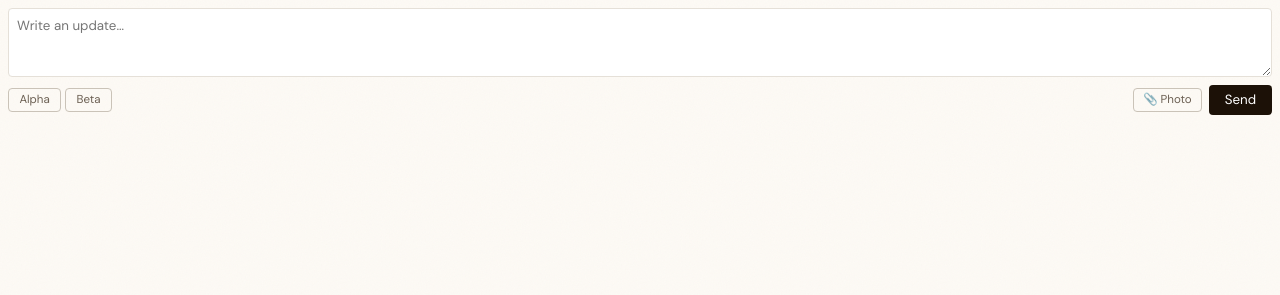
ComposeBox — per-circle body variants › renders one variant textarea per circle with ALT enabled
This screenshot has width=1280, height=295.
# Select both circles
Click the button "Alpha". click: (35, 100)
box: x1=9 y1=89 x2=60 y2=111
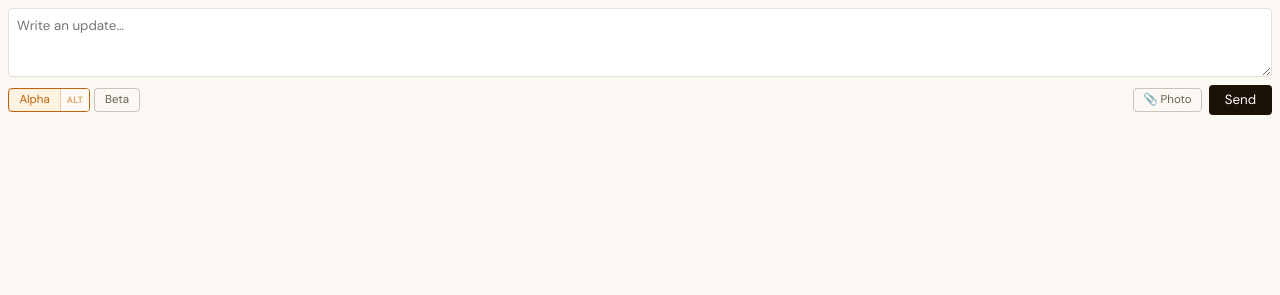
Click the button "Beta". click: (117, 100)
box: x1=95 y1=89 x2=140 y2=111
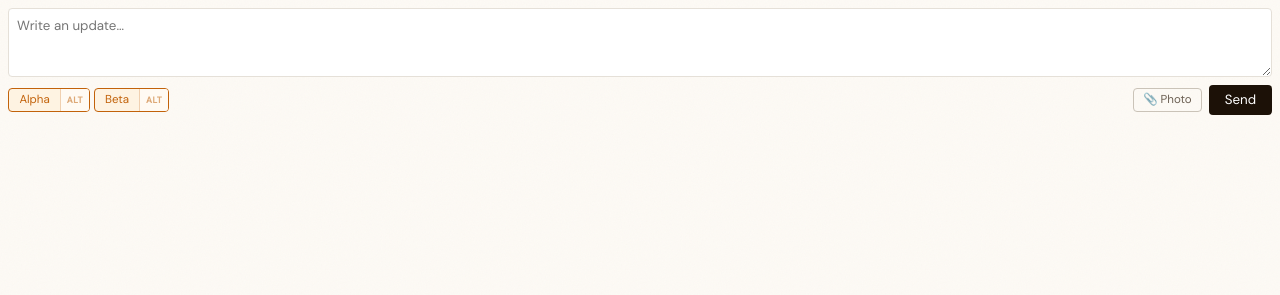
# Enable ALT for both
Click the 1st button titled "Custom message for Alpha". click: (74, 100)
box: x1=60 y1=89 x2=89 y2=111
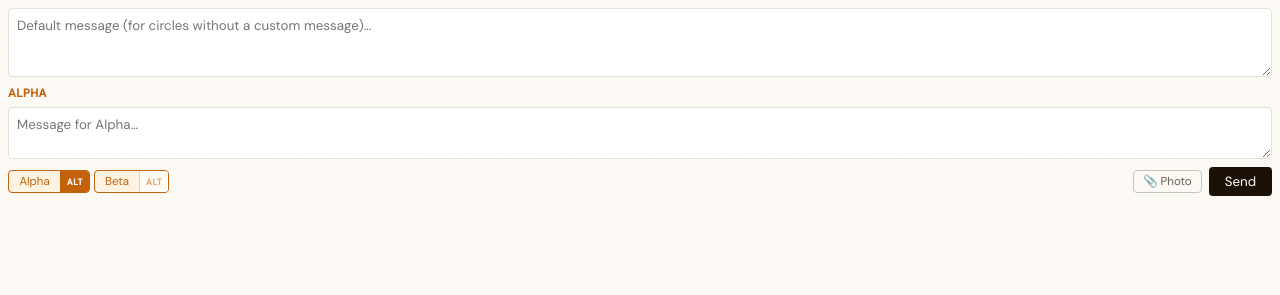
Click the 2nd button titled "Custom message for Beta". click: (154, 182)
box: x1=140 y1=171 x2=168 y2=192
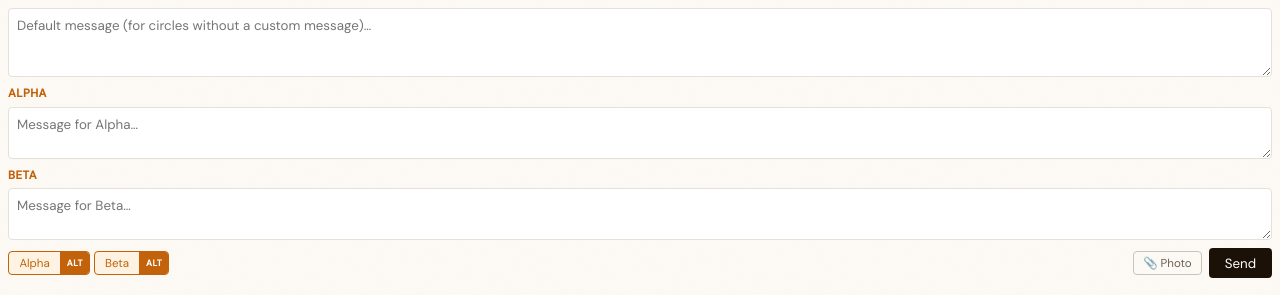
Result: the number of text boxes is 3 at x1=8 y1=8 x2=1272 y2=77; x1=8 y1=107 x2=1272 y2=159; x1=8 y1=188 x2=1272 y2=240
